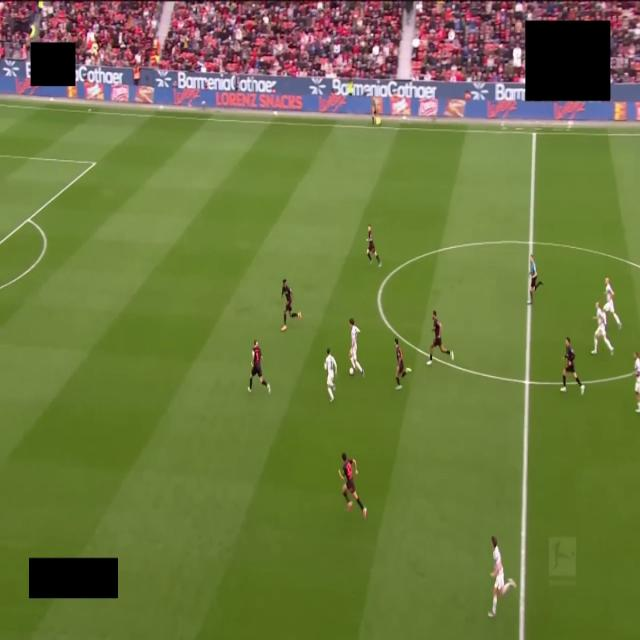ball: (349, 368, 354, 375)
player: (489, 536, 516, 617), (339, 453, 366, 519), (427, 311, 453, 365), (561, 337, 585, 394), (248, 341, 270, 393), (591, 303, 613, 354), (281, 280, 301, 331), (604, 277, 622, 329), (349, 318, 364, 376), (395, 339, 411, 390), (325, 349, 337, 402), (367, 226, 381, 266), (634, 352, 639, 413)
referee: (529, 255, 543, 303)
